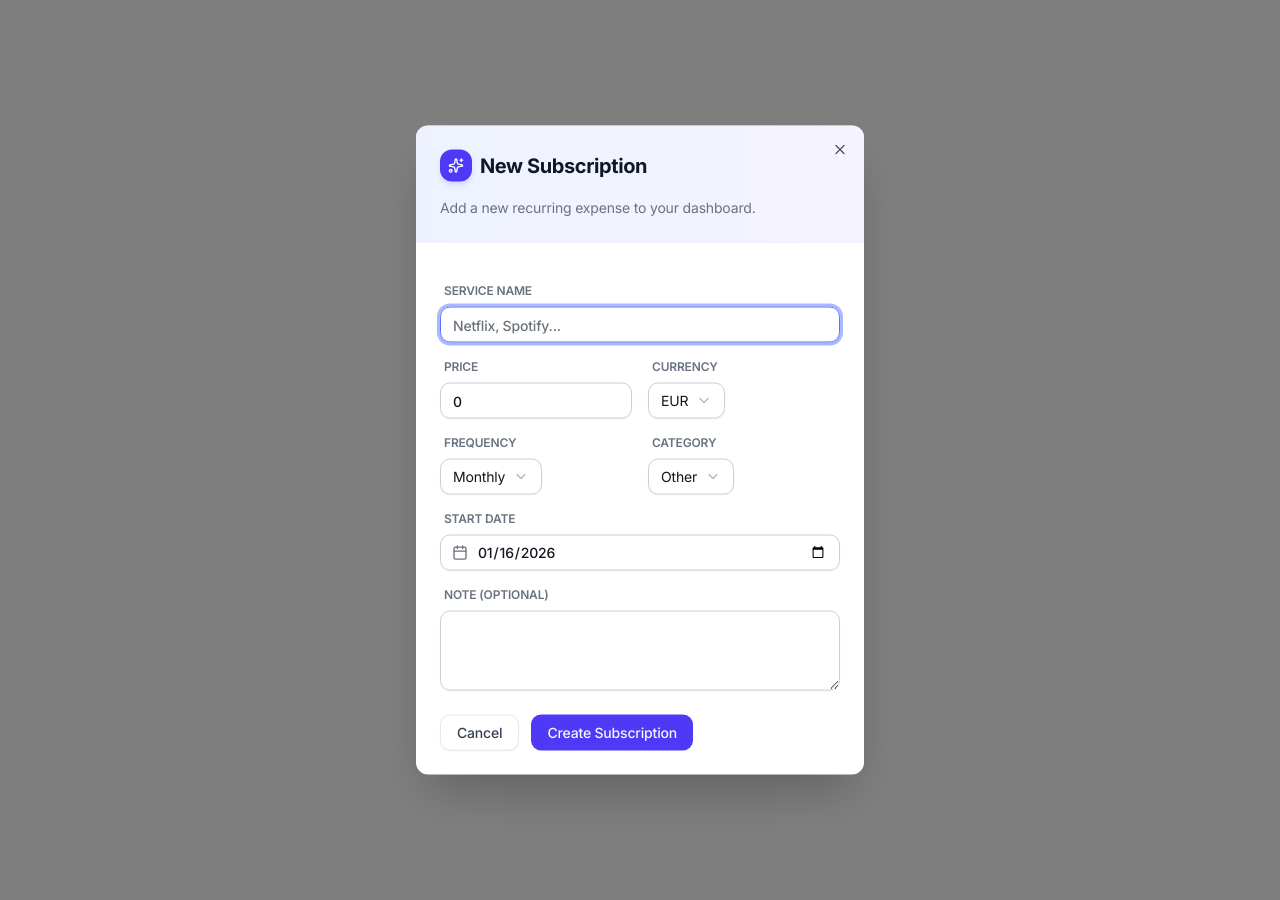
Test: CreateSubscriptionModal › shows validation errors for invalid inputs
Type "a" into the field with placeholder "Netflix, Spotify..." at coordinates (640, 324), box [440,306,840,342]
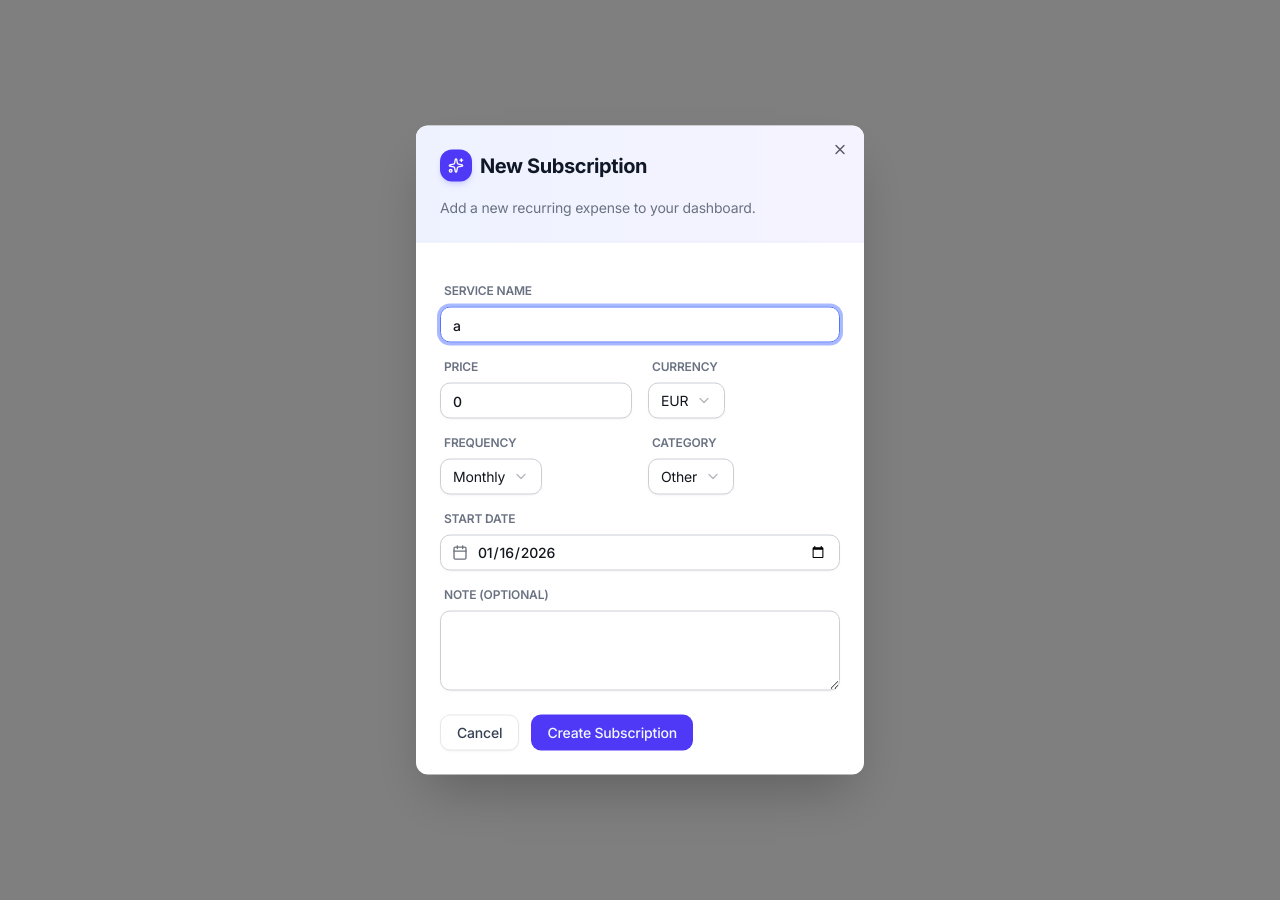
Click the button "Create Subscription" at coordinates (612, 732), box [531,714,693,750]
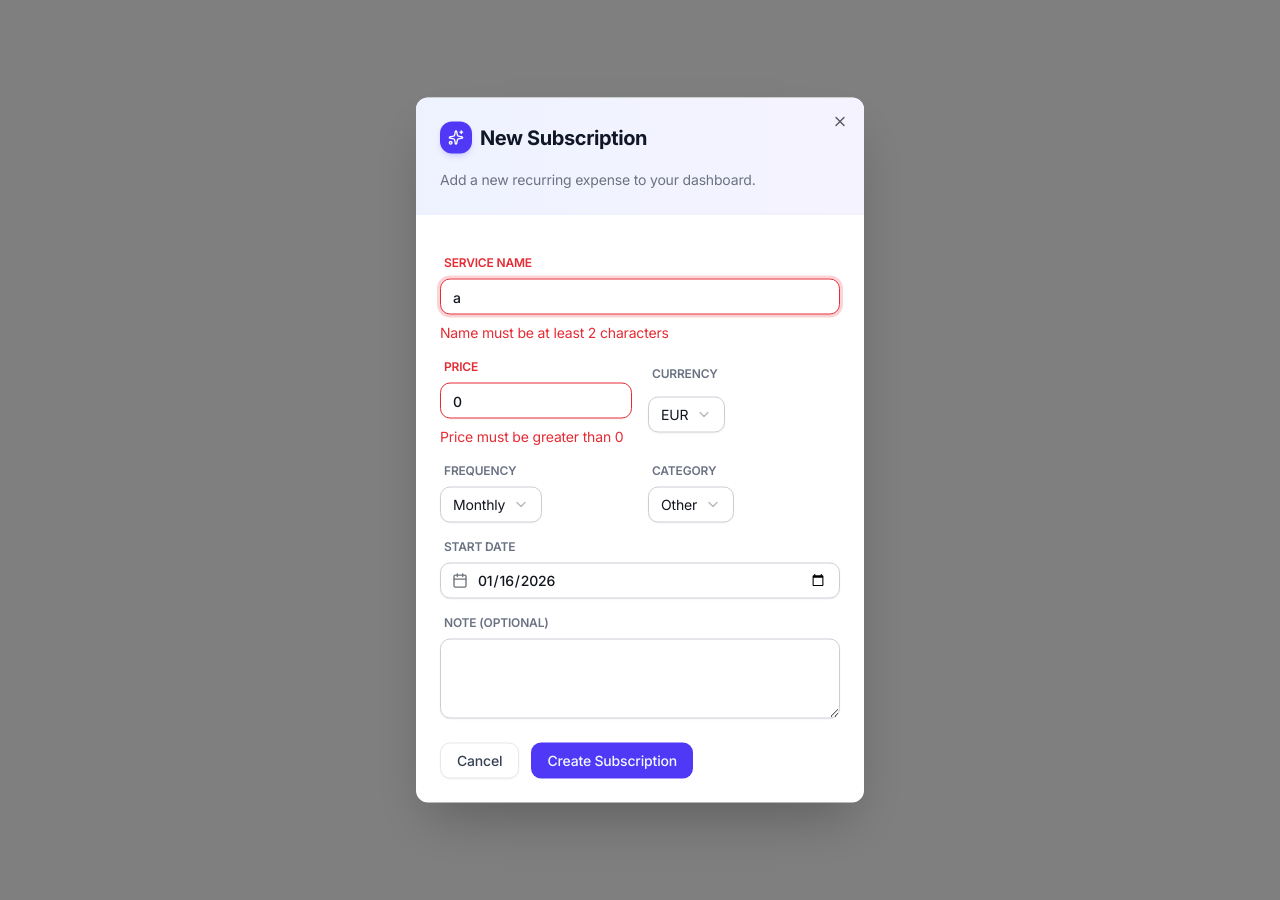
Expected: the text "Name must be at least 2 characters" is shown, [440,324,669,340]
Expected: the text "Price must be greater than 0" is shown, [440,426,632,446]
